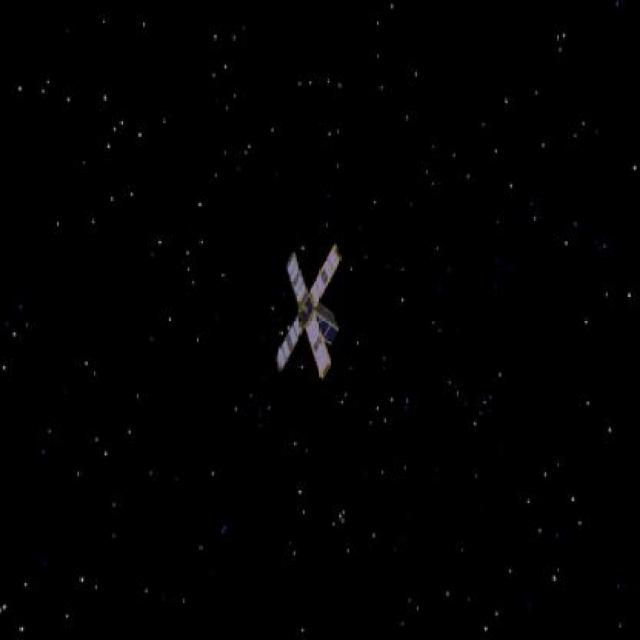medium_debris: (261, 244, 350, 387)
